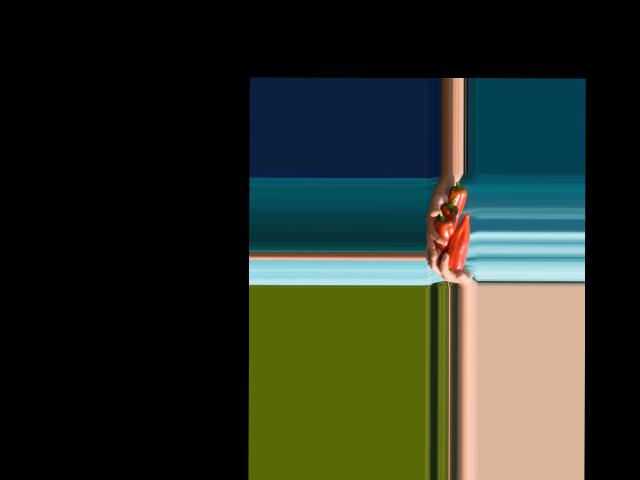bell_pepper: (446, 181, 466, 218)
